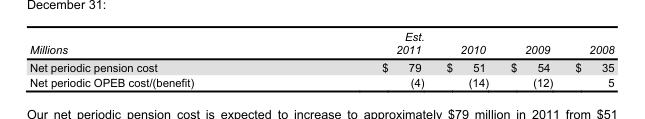table: (29, 29, 613, 88)
table column: (29, 29, 287, 88), (287, 29, 434, 88), (434, 29, 499, 88), (499, 29, 563, 88), (563, 29, 613, 88)
table column header: (29, 29, 613, 57)
table row: (29, 29, 613, 57), (29, 57, 613, 74), (29, 74, 613, 88)
